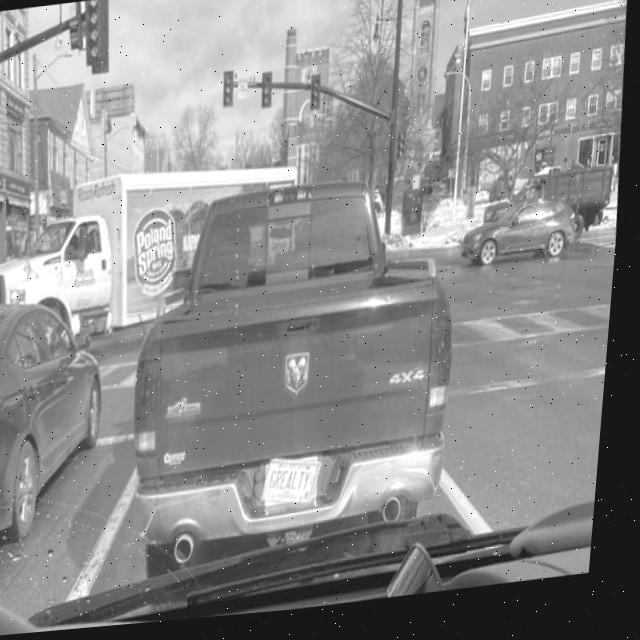LicensePlate: (268, 464, 330, 513)
